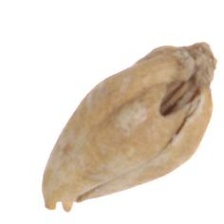L1: (181, 42, 217, 95), (41, 187, 88, 213)
L2: (41, 42, 219, 212)
